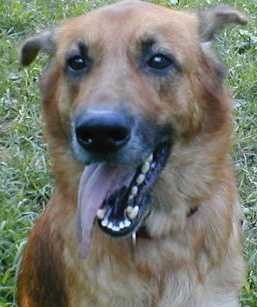Dog: (22, 0, 246, 284)
